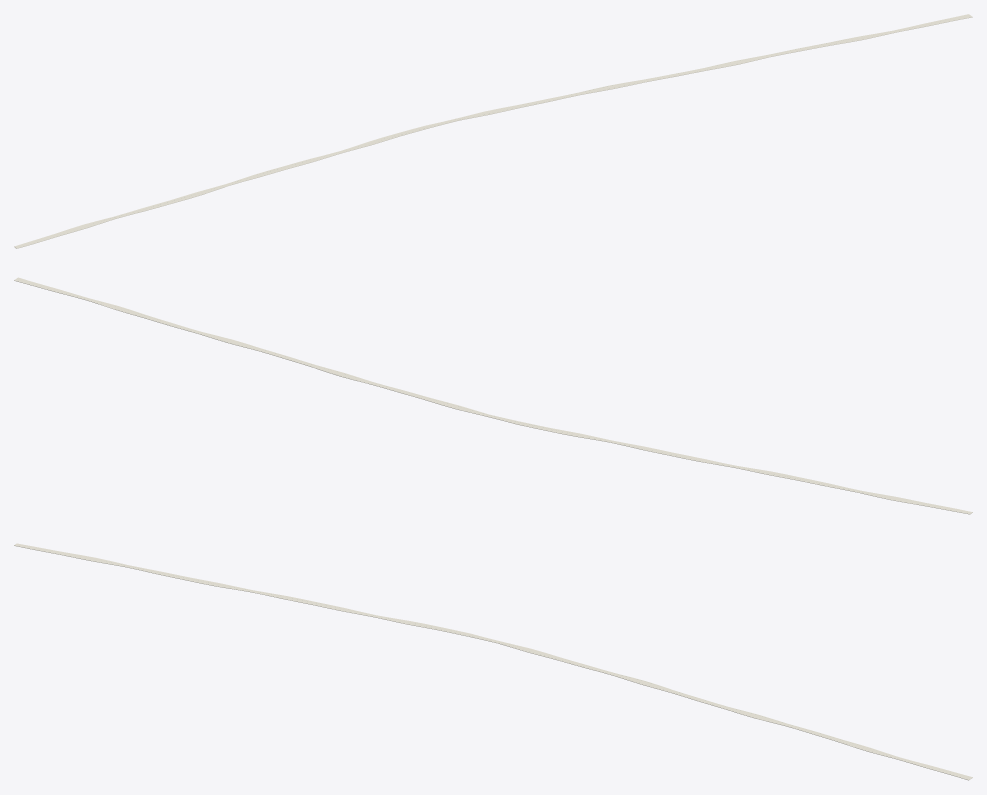
File: cove_foam.glb
3 renders of one model, top to bottom at view 1: azimuth 30°, elevation 25°; view 2: azimuth 150°, elevation 25°; view 3: azimuth 330°, elevation 25°, orthographic.
Visible parts, largest first — view 1: beach_cove_foam; view 2: beach_cove_foam; view 3: beach_cove_foam.
Part boxes in pixels (bbox=[...]): beach_cove_foam: bbox=[14, 14, 972, 248]; beach_cove_foam: bbox=[14, 277, 972, 514]; beach_cove_foam: bbox=[14, 543, 972, 780].
Bounding box in the file's own units: 48 × 0.015 × 2.24.
1 material, 1 textured.
